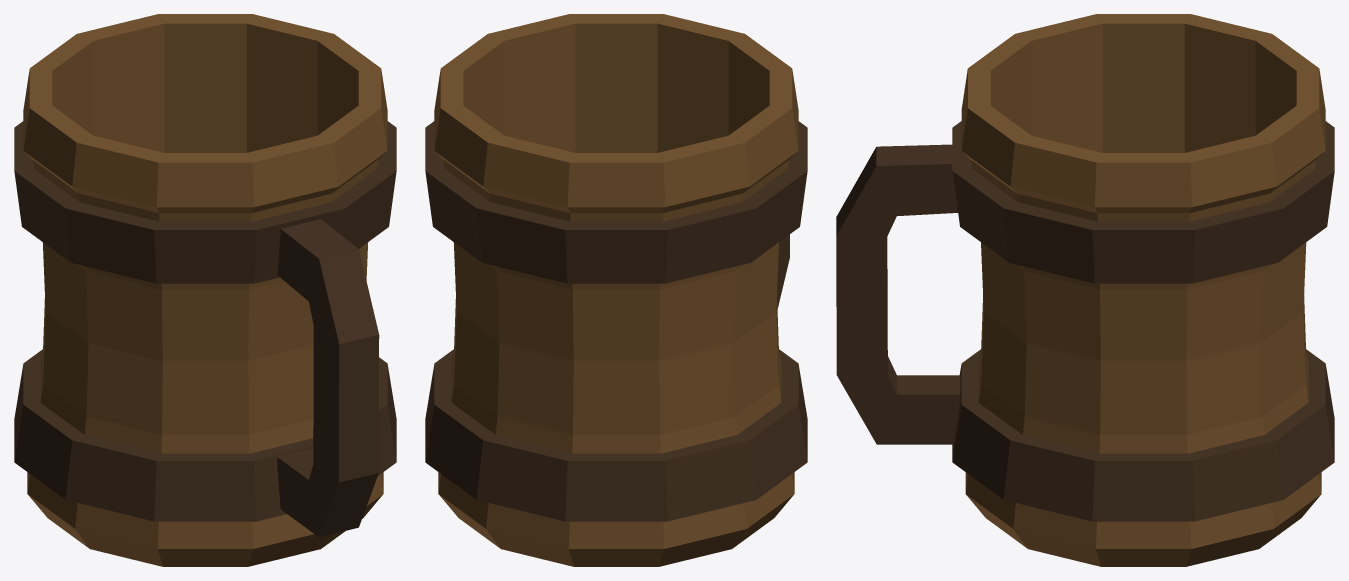
The model's file is mug.gltf.
The picture shows the model from 3 angles, left to right: view 1: azimuth 30°, elevation 25°; view 2: azimuth 150°, elevation 25°; view 3: azimuth 270°, elevation 25°; orthographic projection.
Parts seen in each view (by area): view 1: Mug; view 2: Mug; view 3: Mug.
Part boxes in pixels (<box>): Mug: <box>14,14,396,566</box>; Mug: <box>425,14,807,566</box>; Mug: <box>836,14,1334,566</box>.
Size of the model in its own units: 0.1557 by 0.1852 by 0.2031.
Materials: 1 (1 with a texture image).
